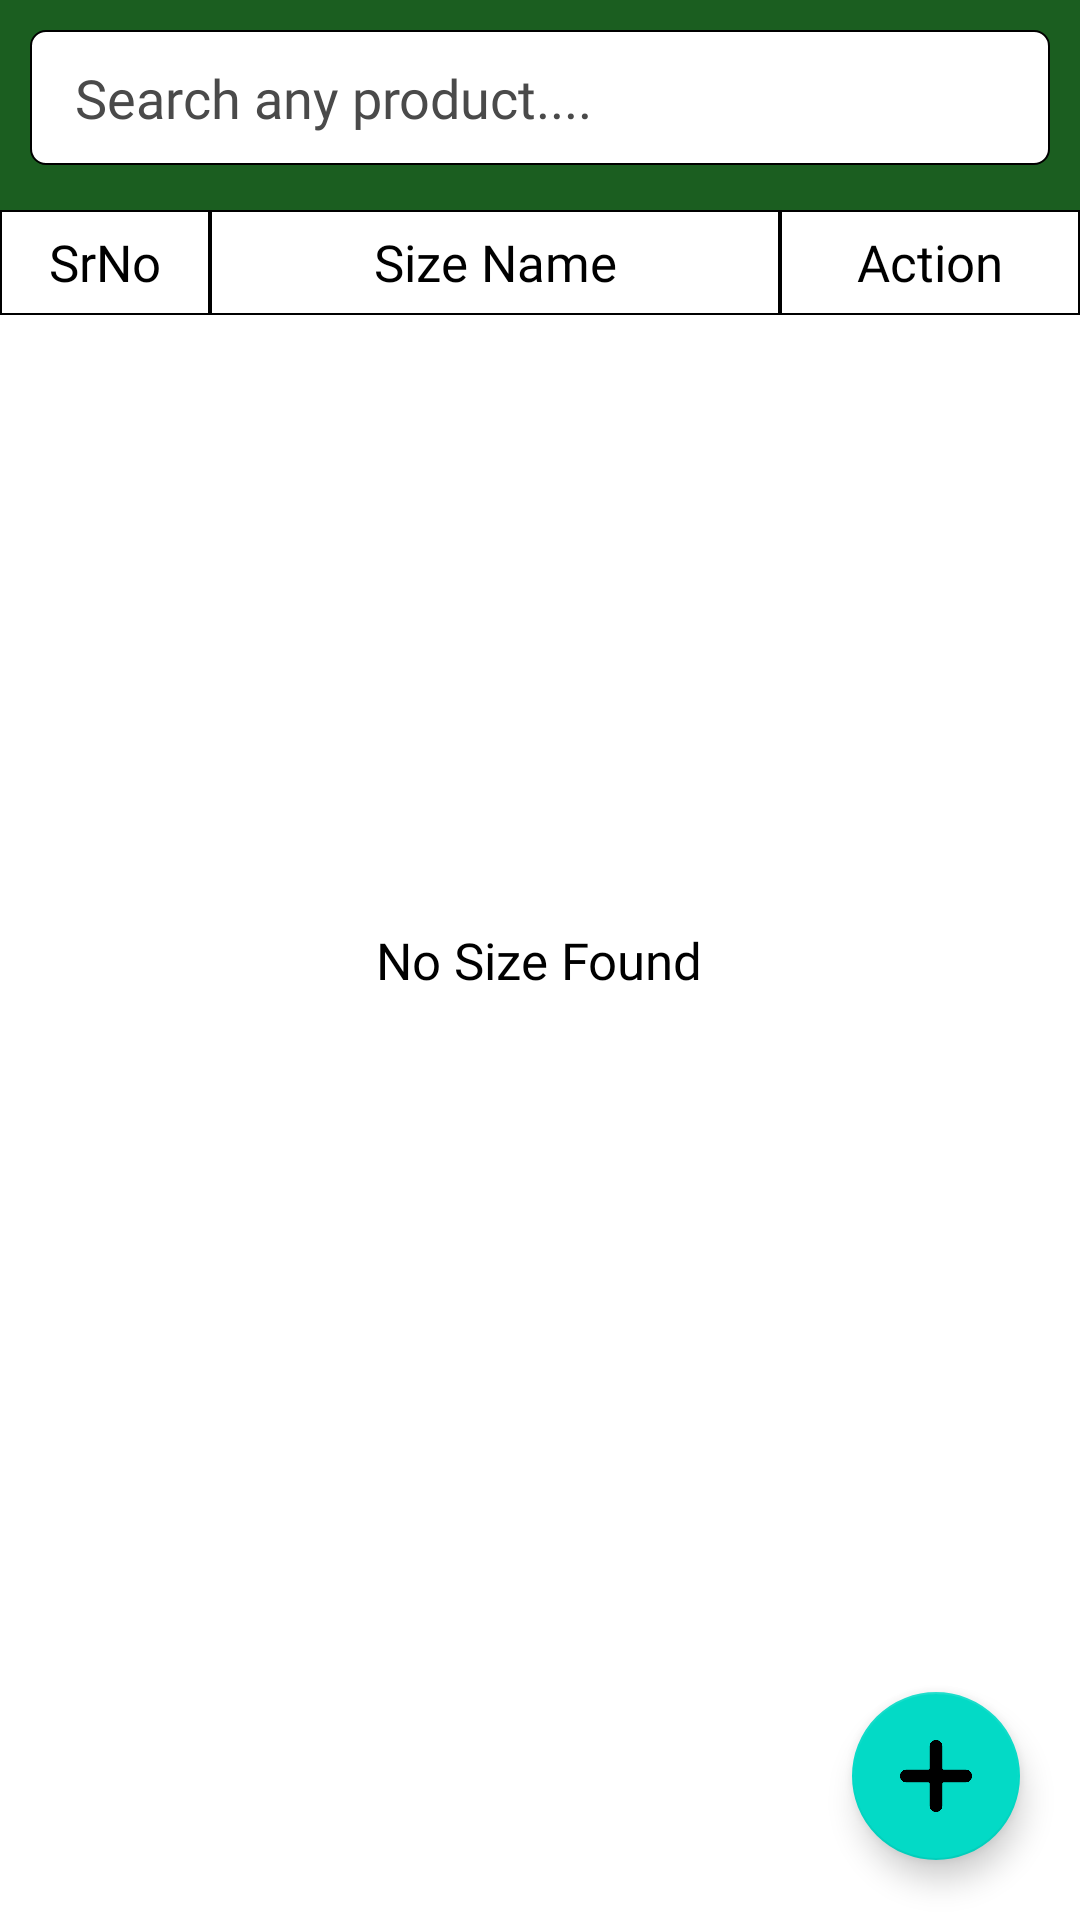

Named icons in this screenshot (1080 x 1920) and their bounding boxes, [left=x1, top=y1, right=x2, bottom=y2]:
addicon: [left=852, top=1692, right=1020, bottom=1860]
